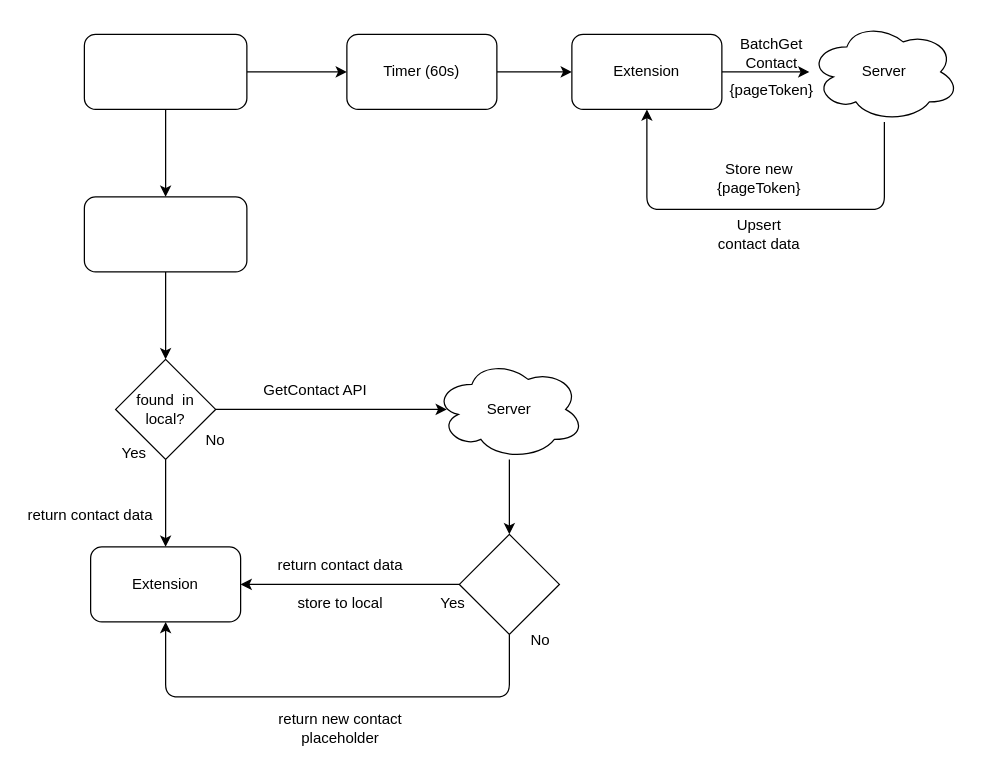
Image size: 981x769. Some labels were removed from this diagram. The shapes that lost their labels are listed below. From the top down, each one's centre as x and y in pixels, then its label:
At point (165, 71): "Extension running".
At point (165, 234): "Get contact".
At point (508, 583): "found?".
